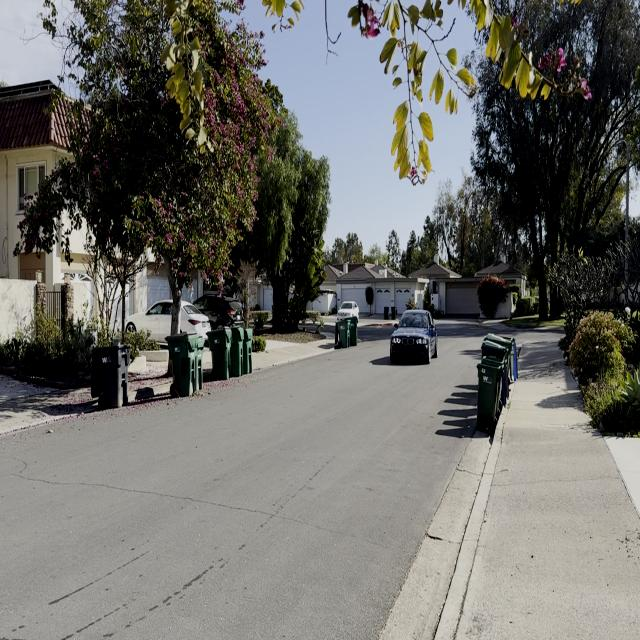Carbeetle: (388, 302, 441, 370)
